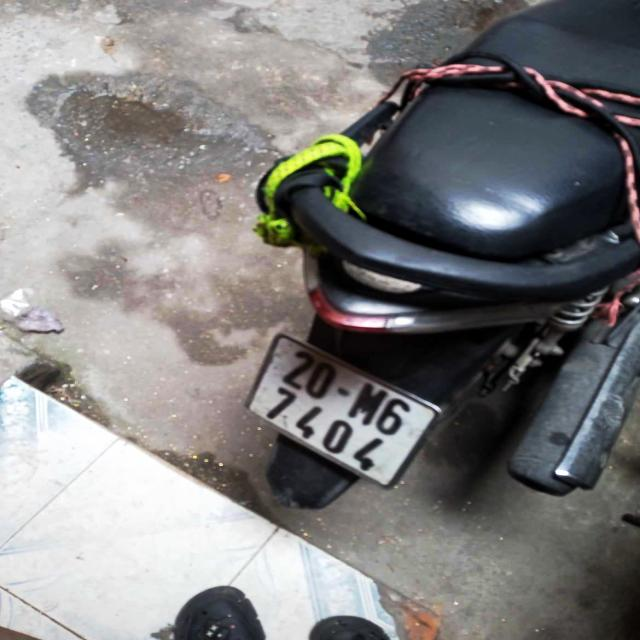license_plate: (238, 331, 448, 493)
